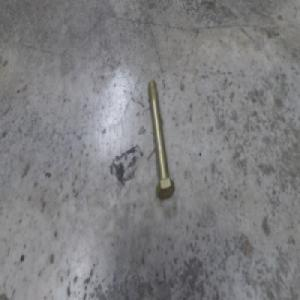Bolt: (148, 80, 176, 202)
